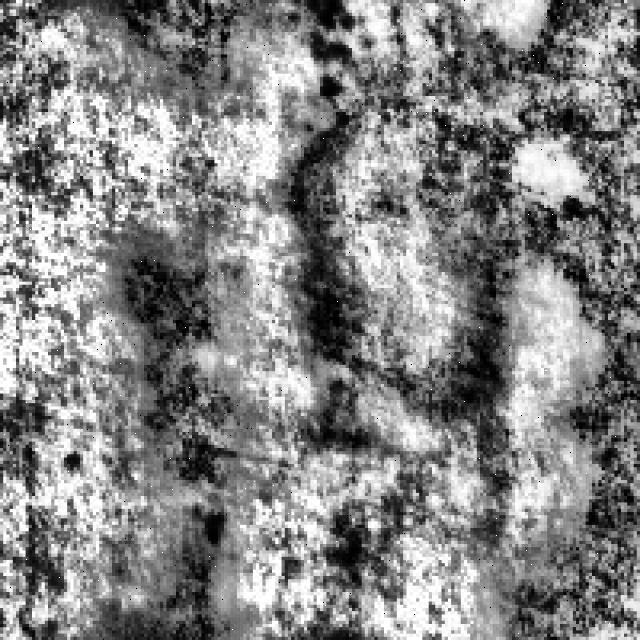Scratches: (278, 0, 582, 432), (112, 227, 256, 621), (528, 240, 640, 634), (90, 0, 268, 80)
